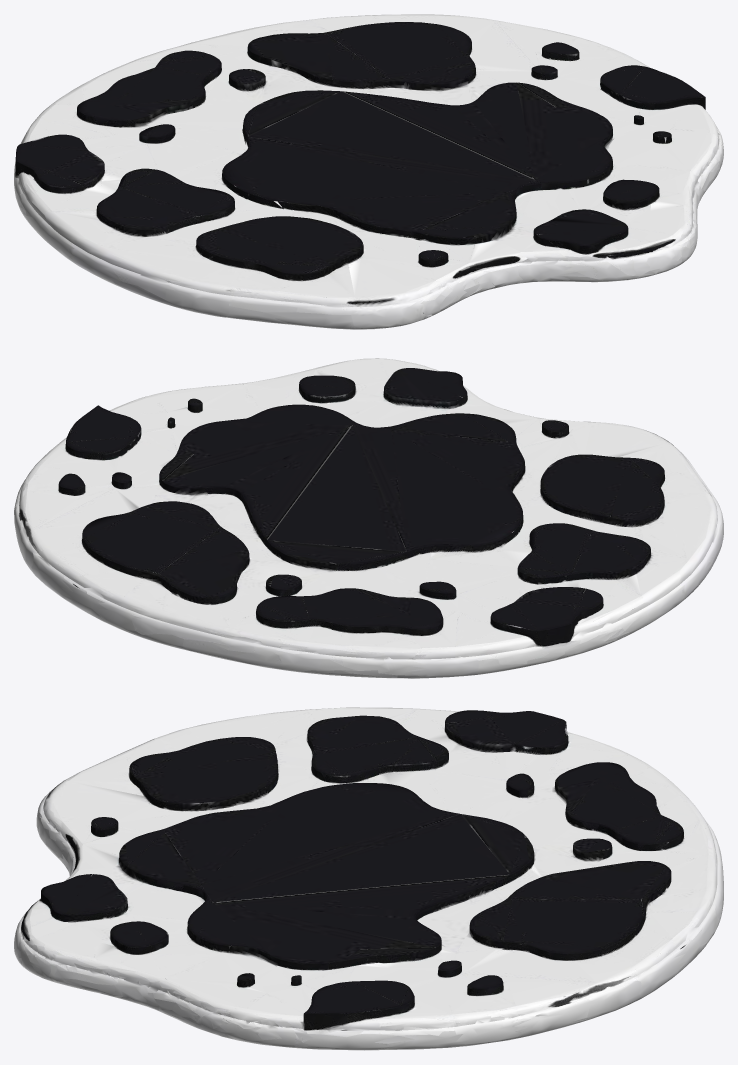
The model's file is cow-rug.glb.
3 views of the same model, one above another, from view 1: azimuth 30°, elevation 25°; view 2: azimuth 150°, elevation 25°; view 3: azimuth 270°, elevation 25° (orthographic). The views are drawn at different scales.
Bounding box in the file's own units: 1.9 × 0.1031 × 1.78.
Materials: 1 (1 with a texture image).
